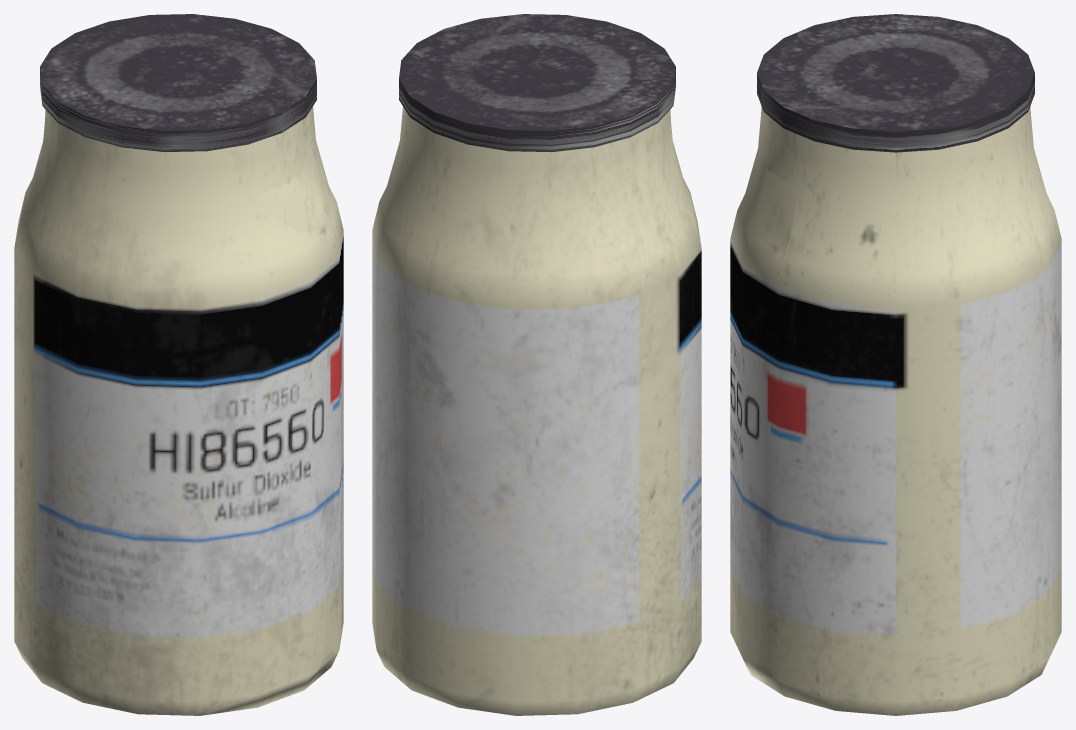
Rendered from SM_Bottle_3.fbx.
The picture shows the model from 3 angles, left to right: view 1: azimuth 30°, elevation 25°; view 2: azimuth 150°, elevation 25°; view 3: azimuth 270°, elevation 25°; orthographic projection.
Parts seen in each view (by area): view 1: SM_Bottle_3_LOD0; view 2: SM_Bottle_3_LOD0; view 3: SM_Bottle_3_LOD0.
Part boxes in pixels (bbox=[...]): SM_Bottle_3_LOD0: bbox=[14, 14, 343, 715]; SM_Bottle_3_LOD0: bbox=[372, 14, 701, 715]; SM_Bottle_3_LOD0: bbox=[730, 14, 1061, 715].
Bounding box in the file's own units: 10 × 10 × 19.43.
Materials: 1 (1 with a texture image).
